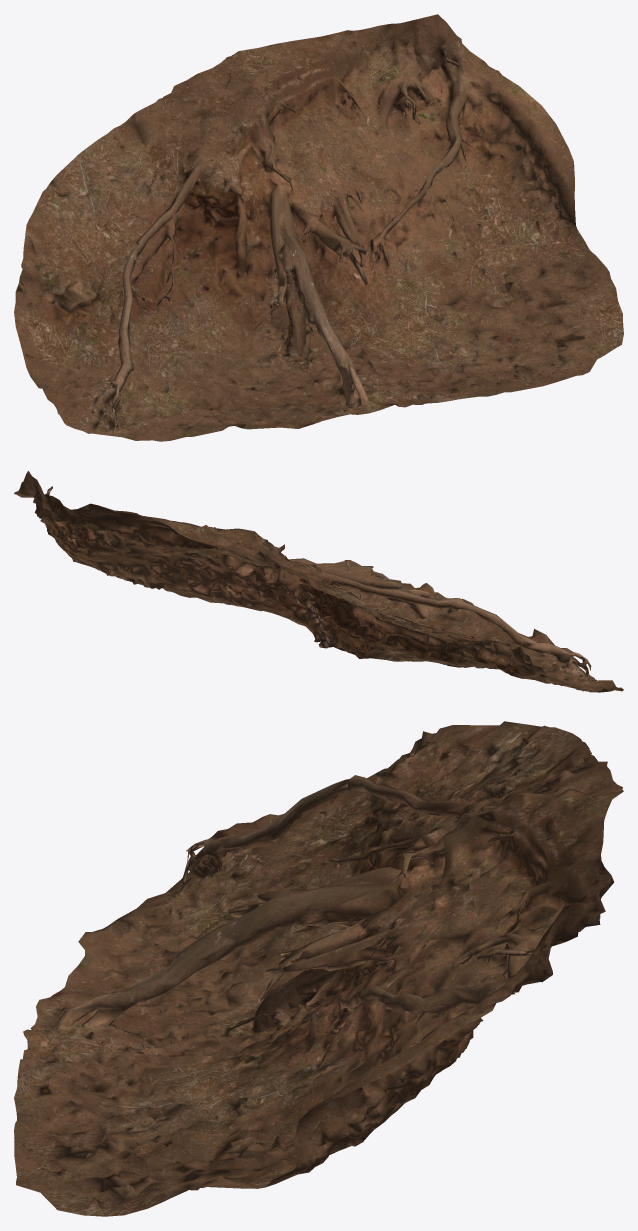
The model's file is root_cluster_01.glb.
3 renders of one model, top to bottom at view 1: azimuth 30°, elevation 25°; view 2: azimuth 150°, elevation 25°; view 3: azimuth 270°, elevation 25°, orthographic. The views are drawn at different scales.
Visible parts, largest first — view 1: root_cluster_01; view 2: root_cluster_01; view 3: root_cluster_01.
Boxes of the visible parts, <box> form: root_cluster_01: <box>14,14,623,441</box>; root_cluster_01: <box>14,471,623,692</box>; root_cluster_01: <box>14,721,623,1216</box>.
Bounding box in the file's own units: 4.12 × 1.51 × 2.68.
1 material, 1 textured.
